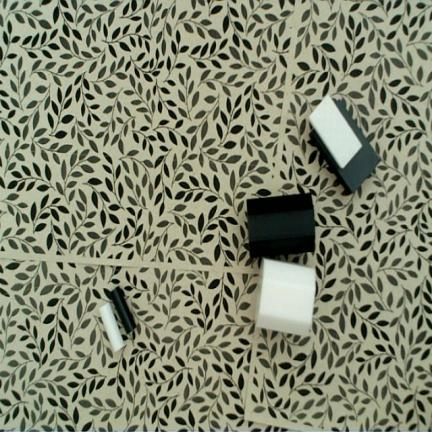Cilindro: (109, 285, 136, 334), (98, 303, 124, 353)
Paralelepipedo: (308, 99, 381, 193), (308, 93, 364, 171)
Prisma_hexagonal: (256, 258, 316, 335), (246, 192, 315, 258)
